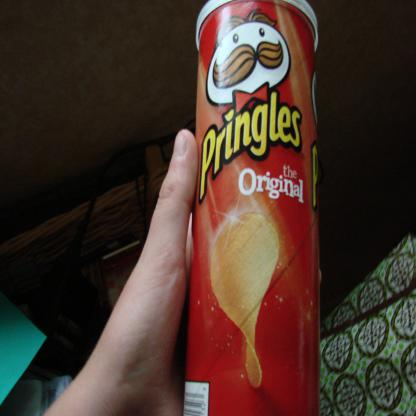potatochip: (181, 0, 326, 416)
